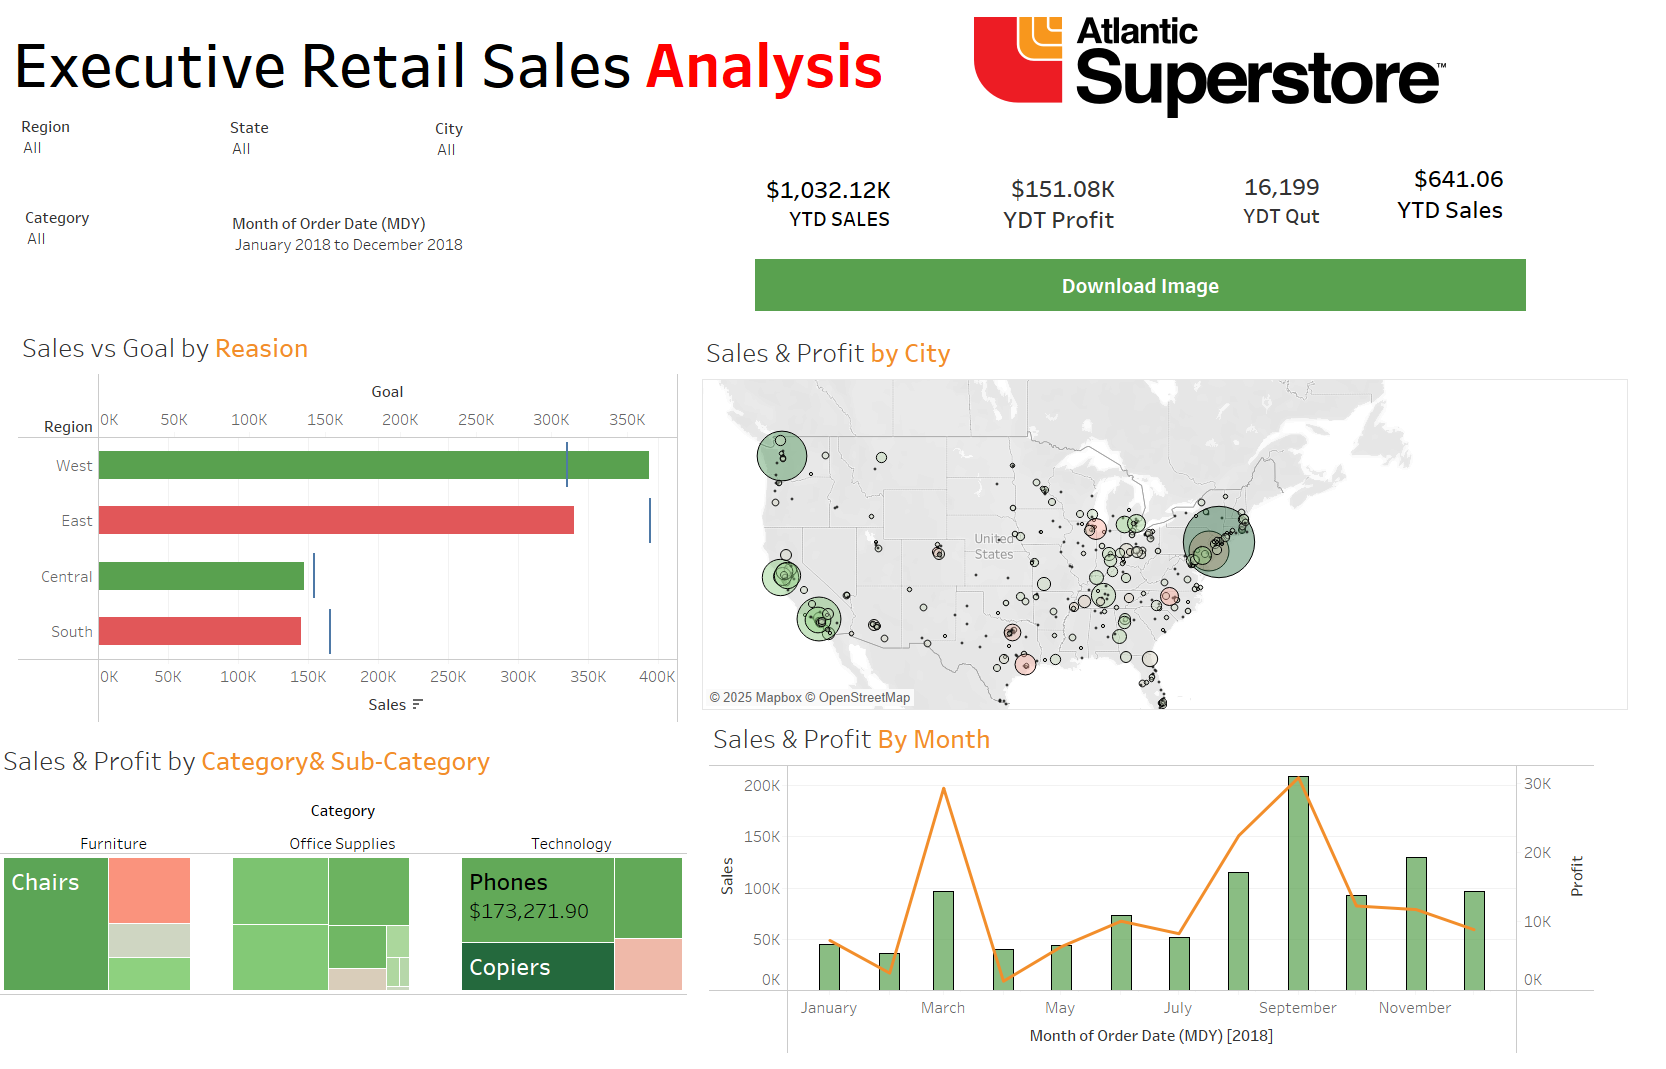

Layout of this report page (visuals, bound fields, positions):
{"tool":"tableau","page":{"name":"Dashboard 1","canvas":[1666,1069],"ordinal":0},"visuals":[{"type":"image","box":[8,8,1650,1053]},{"type":"title","box":[9,12,946,101]},{"type":"image","param":"Image/atlantic-superstore-2017.svg","box":[974,17,595,101]},{"type":"filter","title":"Bar -sales vs goal","param":"[federated.0153opz1et47ig0zoo6te1mmoyp1].[none:Region:nk]","box":[21,115,181,58]},{"type":"filter","title":"Sales & profit by city ","param":"[federated.0153opz1et47ig0zoo6te1mmoyp1].[none:State:nk]","box":[230,116,183,54]},{"type":"filter","title":"Sales & profit by city ","param":"[federated.0153opz1et47ig0zoo6te1mmoyp1].[none:City:nk]","box":[435,117,216,72]},{"type":"worksheet","title":"Sheet 11","mark":"Automatic","box":[1388,147,141,81]},{"type":"worksheet","title":"Sheet 10","mark":"Automatic","box":[1224,155,140,91]},{"type":"worksheet","title":"Sheet 9","mark":"Automatic","box":[999,157,135,90]},{"type":"worksheet","title":"Sheet 8","mark":"Automatic","box":[755,158,167,79]},{"type":"filter","title":"Treemap - Category","param":"[federated.0153opz1et47ig0zoo6te1mmoyp1].[none:Category:nk]","box":[25,206,172,58]},{"type":"filter","title":"Sales & Profit","param":"[federated.0153opz1et47ig0zoo6te1mmoyp1].[tmn:Order Date (MDY):qk]","box":[232,212,425,75]},{"type":"dashboard-object","box":[755,259,771,52]},{"type":"worksheet","title":"Bar -sales vs goal","mark":"Automatic","rows":["Region"],"cols":["Sales","Goal"],"box":[18,324,660,399]},{"type":"worksheet","title":"Sales & profit by city ","mark":"Automatic","box":[702,329,926,381]},{"type":"worksheet","title":"Sales & Profit","mark":"Automatic","rows":["Sales","Profit"],"cols":["Order Date (MDY)"],"box":[709,715,886,339]}]}

Visuals, with their boxes in screenshot pixels (x1, y1, x2, y2), scaled from the page's 1666x1069 canvas onto the 1666x1069 screenshot:
image: [left=8, top=8, right=1658, bottom=1061]
title: [left=9, top=12, right=955, bottom=113]
image: [left=974, top=17, right=1569, bottom=118]
"Bar -sales vs goal" filter: [left=21, top=115, right=202, bottom=173]
"Sales & profit by city " filter: [left=230, top=116, right=413, bottom=170]
"Sales & profit by city " filter: [left=435, top=117, right=651, bottom=189]
"Sheet 11" worksheet: [left=1388, top=147, right=1529, bottom=228]
"Sheet 10" worksheet: [left=1224, top=155, right=1364, bottom=246]
"Sheet 9" worksheet: [left=999, top=157, right=1134, bottom=247]
"Sheet 8" worksheet: [left=755, top=158, right=922, bottom=237]
"Treemap - Category" filter: [left=25, top=206, right=197, bottom=264]
"Sales & Profit" filter: [left=232, top=212, right=657, bottom=287]
dashboard-object: [left=755, top=259, right=1526, bottom=311]
"Bar -sales vs goal" worksheet: [left=18, top=324, right=678, bottom=723]
"Sales & profit by city " worksheet: [left=702, top=329, right=1628, bottom=710]
"Sales & Profit" worksheet: [left=709, top=715, right=1595, bottom=1054]
